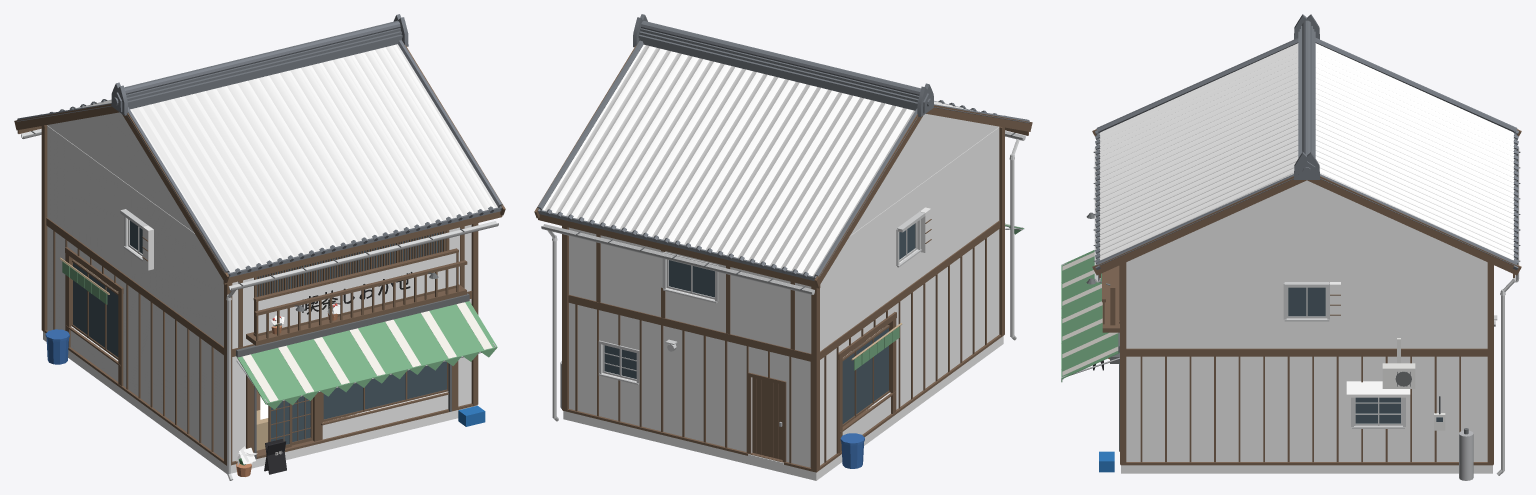
File: shop_cafe.glb
3 views of the same model, side by side, from view 1: azimuth 30°, elevation 25°; view 2: azimuth 150°, elevation 25°; view 3: azimuth 270°, elevation 25° (orthographic).
Visible parts, largest first — view 1: shop_cafe_body; view 2: shop_cafe_body; view 3: shop_cafe_body.
Part boxes in pixels (x1,y1,x2,y2): shop_cafe_body: (14, 14, 505, 480); shop_cafe_body: (534, 14, 1032, 480); shop_cafe_body: (1061, 14, 1521, 480).
Size of what is drawn, in the model's own units: 8.28 by 8.89 by 11.26.
